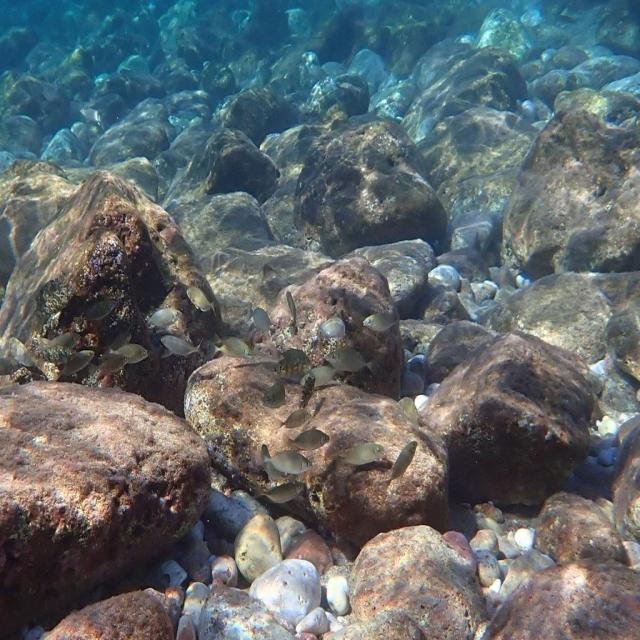Sokar Baligi: (159, 330, 207, 365), (361, 305, 408, 336)
